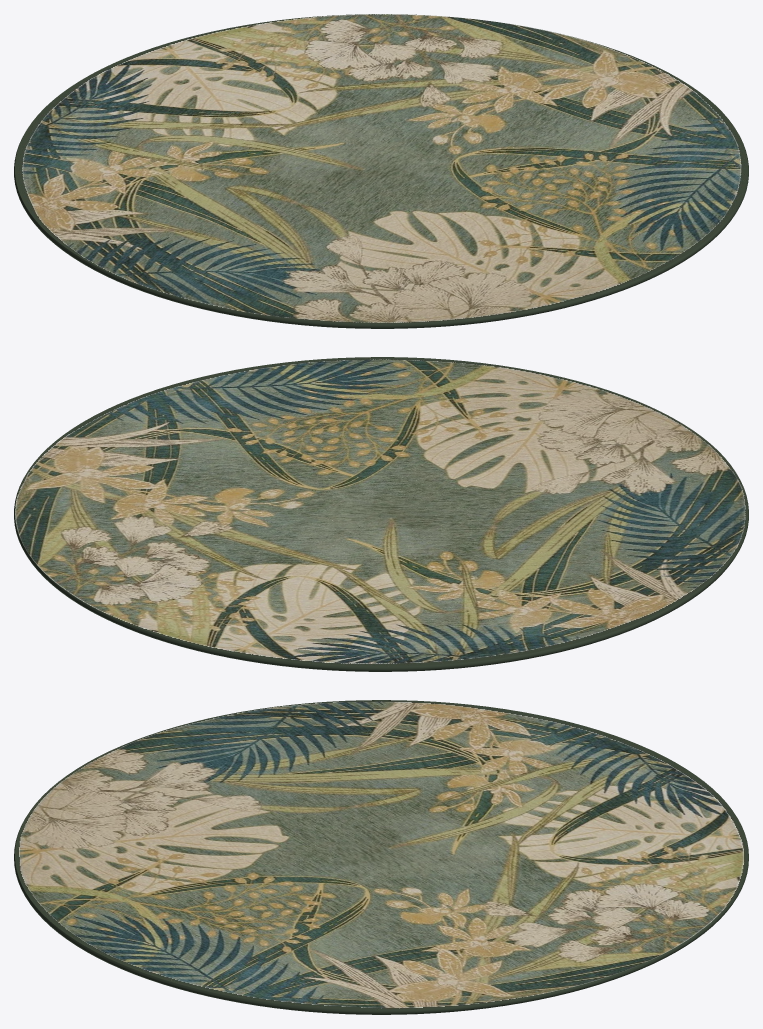
File: mdm-214553.glb
3 renders of one model, top to bottom at view 1: azimuth 30°, elevation 25°; view 2: azimuth 150°, elevation 25°; view 3: azimuth 270°, elevation 25°, orthographic.
Parts seen in each view (by area): view 1: mdm-214553; view 2: mdm-214553; view 3: mdm-214553.
Boxes of the visible parts, bbox=[...] form: mdm-214553: bbox=[14, 14, 748, 328]; mdm-214553: bbox=[14, 357, 748, 671]; mdm-214553: bbox=[14, 700, 748, 1014].
Bounding box in the file's own units: 1.6 × 0.012 × 1.6.
2 materials, 1 textured.
